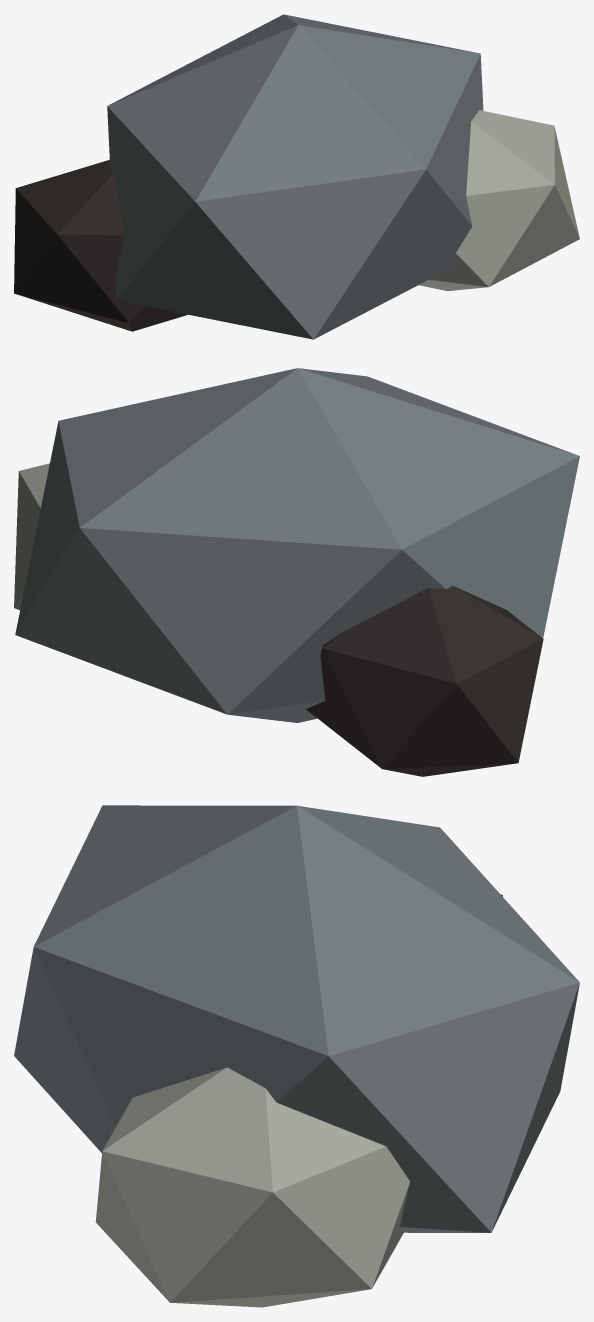
File: Boulder_B.fbx
3 renders of one model, top to bottom at view 1: azimuth 30°, elevation 25°; view 2: azimuth 150°, elevation 25°; view 3: azimuth 270°, elevation 25°, orthographic. The views are drawn at different scales.
Parts seen in each view (by area): view 1: Boulder_B; view 2: Boulder_B; view 3: Boulder_B.
Boxes of the visible parts, x1=… form: Boulder_B: x1=14, y1=14, x2=579, y2=339; Boulder_B: x1=14, y1=368, x2=579, y2=776; Boulder_B: x1=14, y1=805, x2=579, y2=1307.
Bounding box in the file's own units: 2.07 × 1.24 × 1.49.
Materials: 1 (1 with a texture image).
